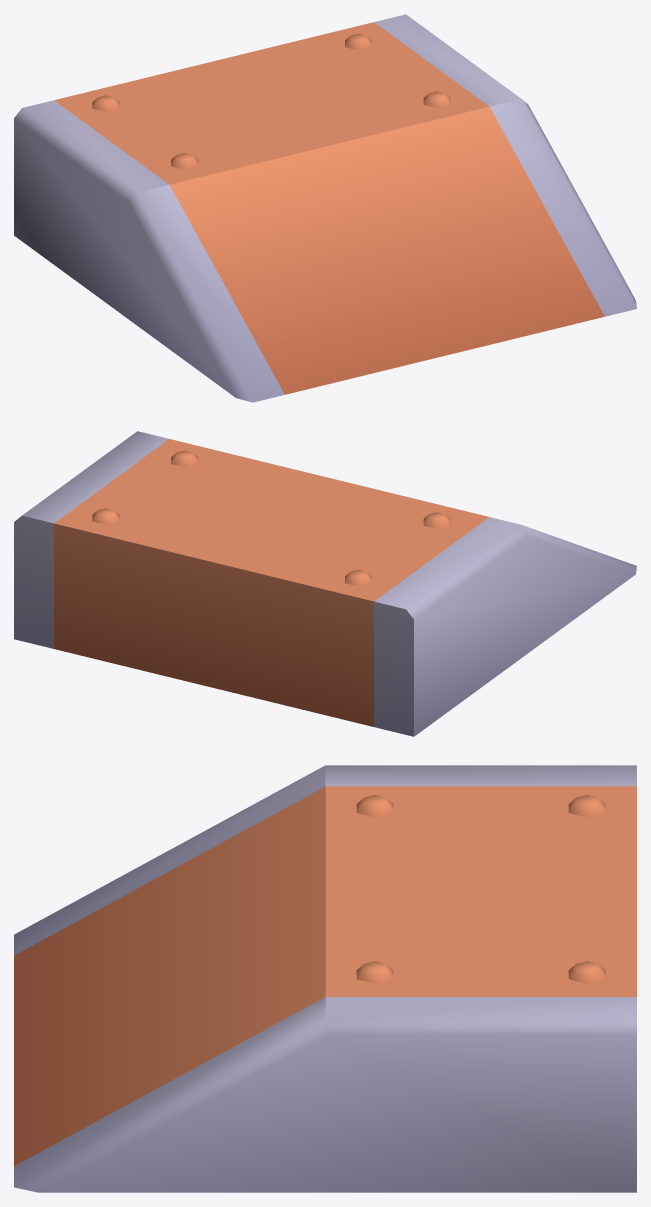
The model's file is ramp.fbx.
3 views of the same model, one above another, from view 1: azimuth 30°, elevation 25°; view 2: azimuth 150°, elevation 25°; view 3: azimuth 270°, elevation 25° (orthographic). The views are drawn at different scales.
Parts seen in each view (by area): view 1: ramp; view 2: ramp; view 3: ramp.
Boxes of the visible parts, x1,y1,x2,y2 form: ramp: (14, 14, 636, 402); ramp: (14, 431, 636, 736); ramp: (14, 765, 636, 1192).
Bounding box in the file's own units: 100 × 31.48 × 100.
Materials: 1 (1 with a texture image).
